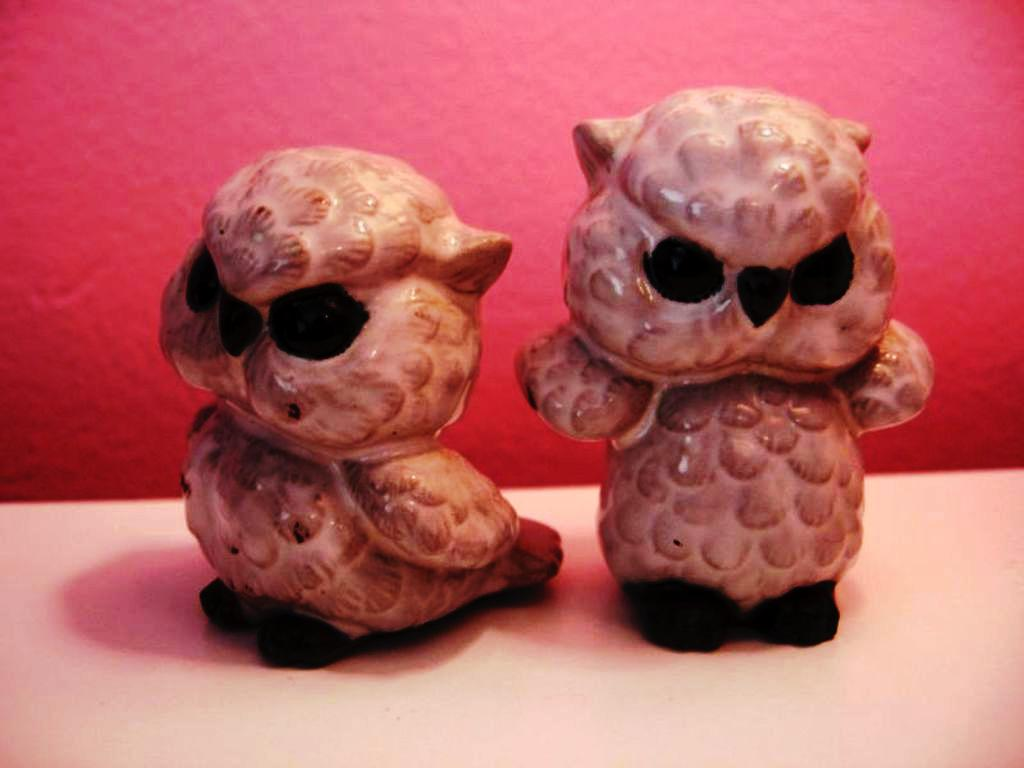Owl: (511, 83, 942, 650), (158, 143, 568, 670)
